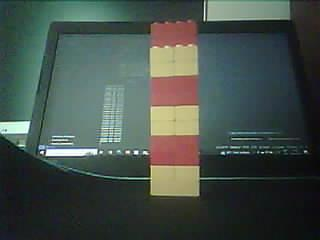lego: (149, 19, 201, 197)
